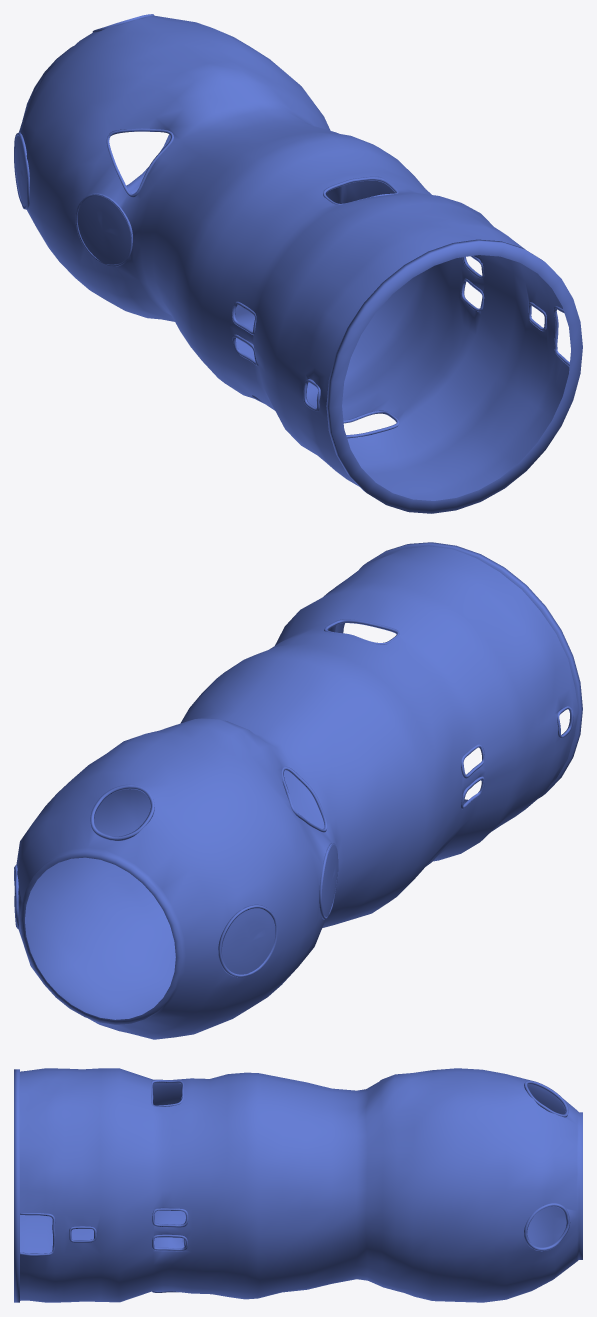
Rendered from Skin.fbx.
The picture shows the model from 3 angles, top to bottom: view 1: azimuth 30°, elevation 25°; view 2: azimuth 150°, elevation 25°; view 3: azimuth 270°, elevation 25°; orthographic projection. The views are drawn at different scales.
Parts seen in each view (by area): view 1: Skin; view 2: Skin; view 3: Skin.
Boxes of the visible parts, bbox=[...] form: Skin: bbox=[14, 14, 582, 513]; Skin: bbox=[14, 542, 582, 1039]; Skin: bbox=[14, 1068, 582, 1302].
Size of the model in its own units: 259 by 257 by 622.
